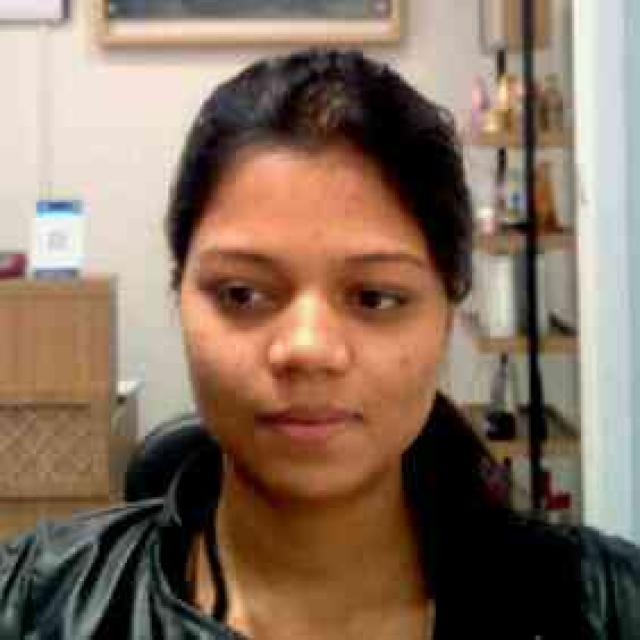puffy_eyes: (216, 276, 299, 329), (339, 307, 415, 325)
